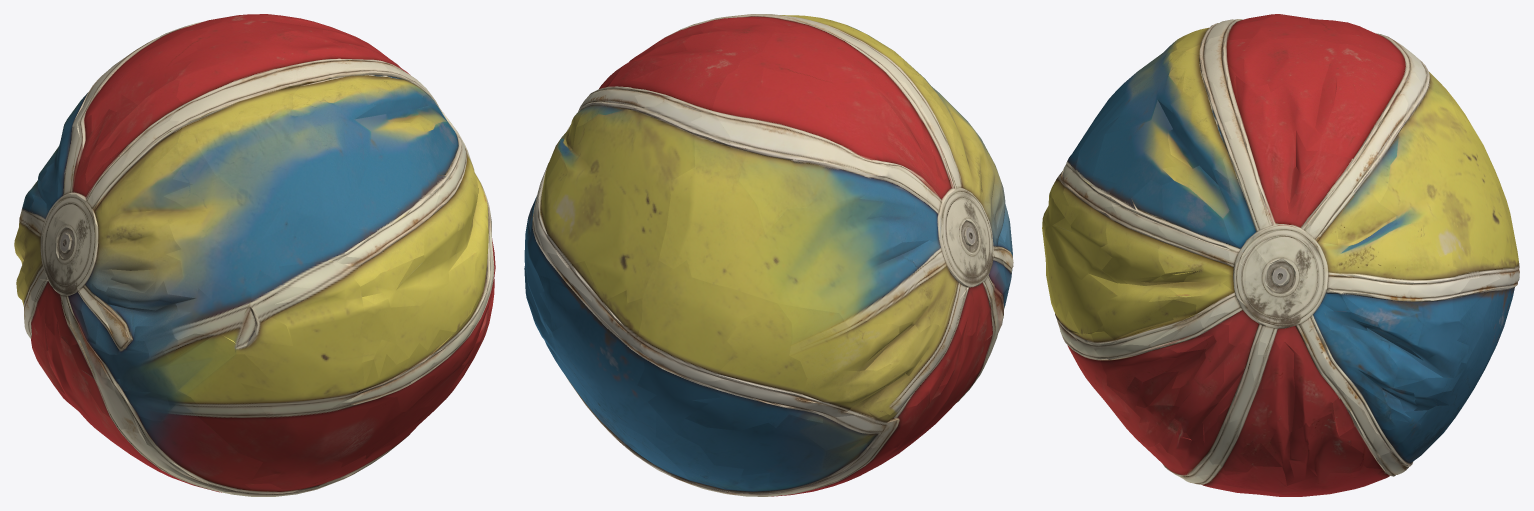
Rendered from pallone_mezzo.glb.
3 views of the same model, side by side, from view 1: azimuth 30°, elevation 25°; view 2: azimuth 150°, elevation 25°; view 3: azimuth 270°, elevation 25° (orthographic).
Parts seen in each view (by area): view 1: Mesh_0; view 2: Mesh_0; view 3: Mesh_0.
Boxes of the visible parts, box(x1,y1,x2,y2) form: Mesh_0: box(14, 14, 495, 496); Mesh_0: box(524, 14, 1013, 496); Mesh_0: box(1042, 14, 1519, 496).
Size of the model in its own units: 1.89 by 1.89 by 1.87.
Materials: 1 (1 with a texture image).
